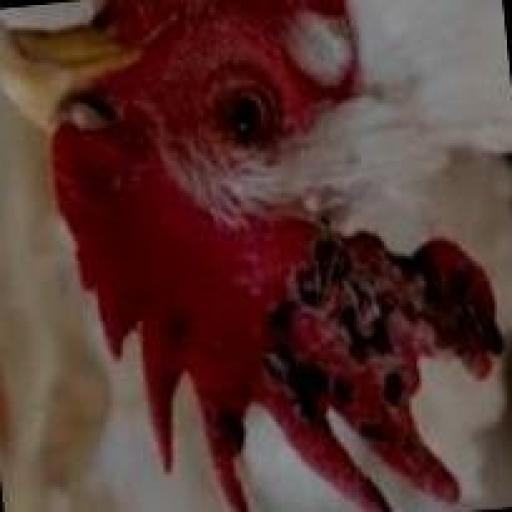disease: (257, 206, 512, 461)
